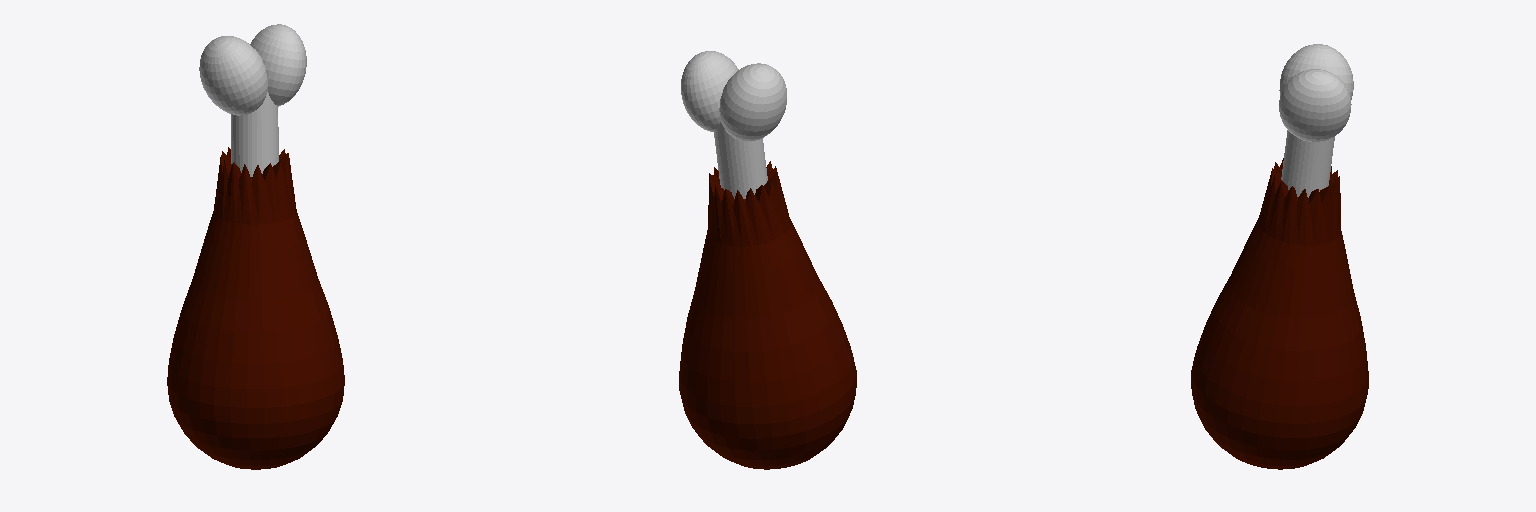
Rendered from chicken-drumstick_cooked.obj.
The picture shows the model from 3 angles: view 1: azimuth 30°, elevation 25°; view 2: azimuth 150°, elevation 25°; view 3: azimuth 270°, elevation 25°; orthographic projection.
Visible parts, largest first — view 1: Bucket.003; view 2: Bucket.003; view 3: Bucket.003.
Part boxes in pixels (x1,y1,x2,y2): Bucket.003: (167, 24, 344, 469); Bucket.003: (679, 51, 856, 469); Bucket.003: (1191, 44, 1368, 469).
Bounding box in the file's own units: 0.1491 × 0.3797 × 0.1489.